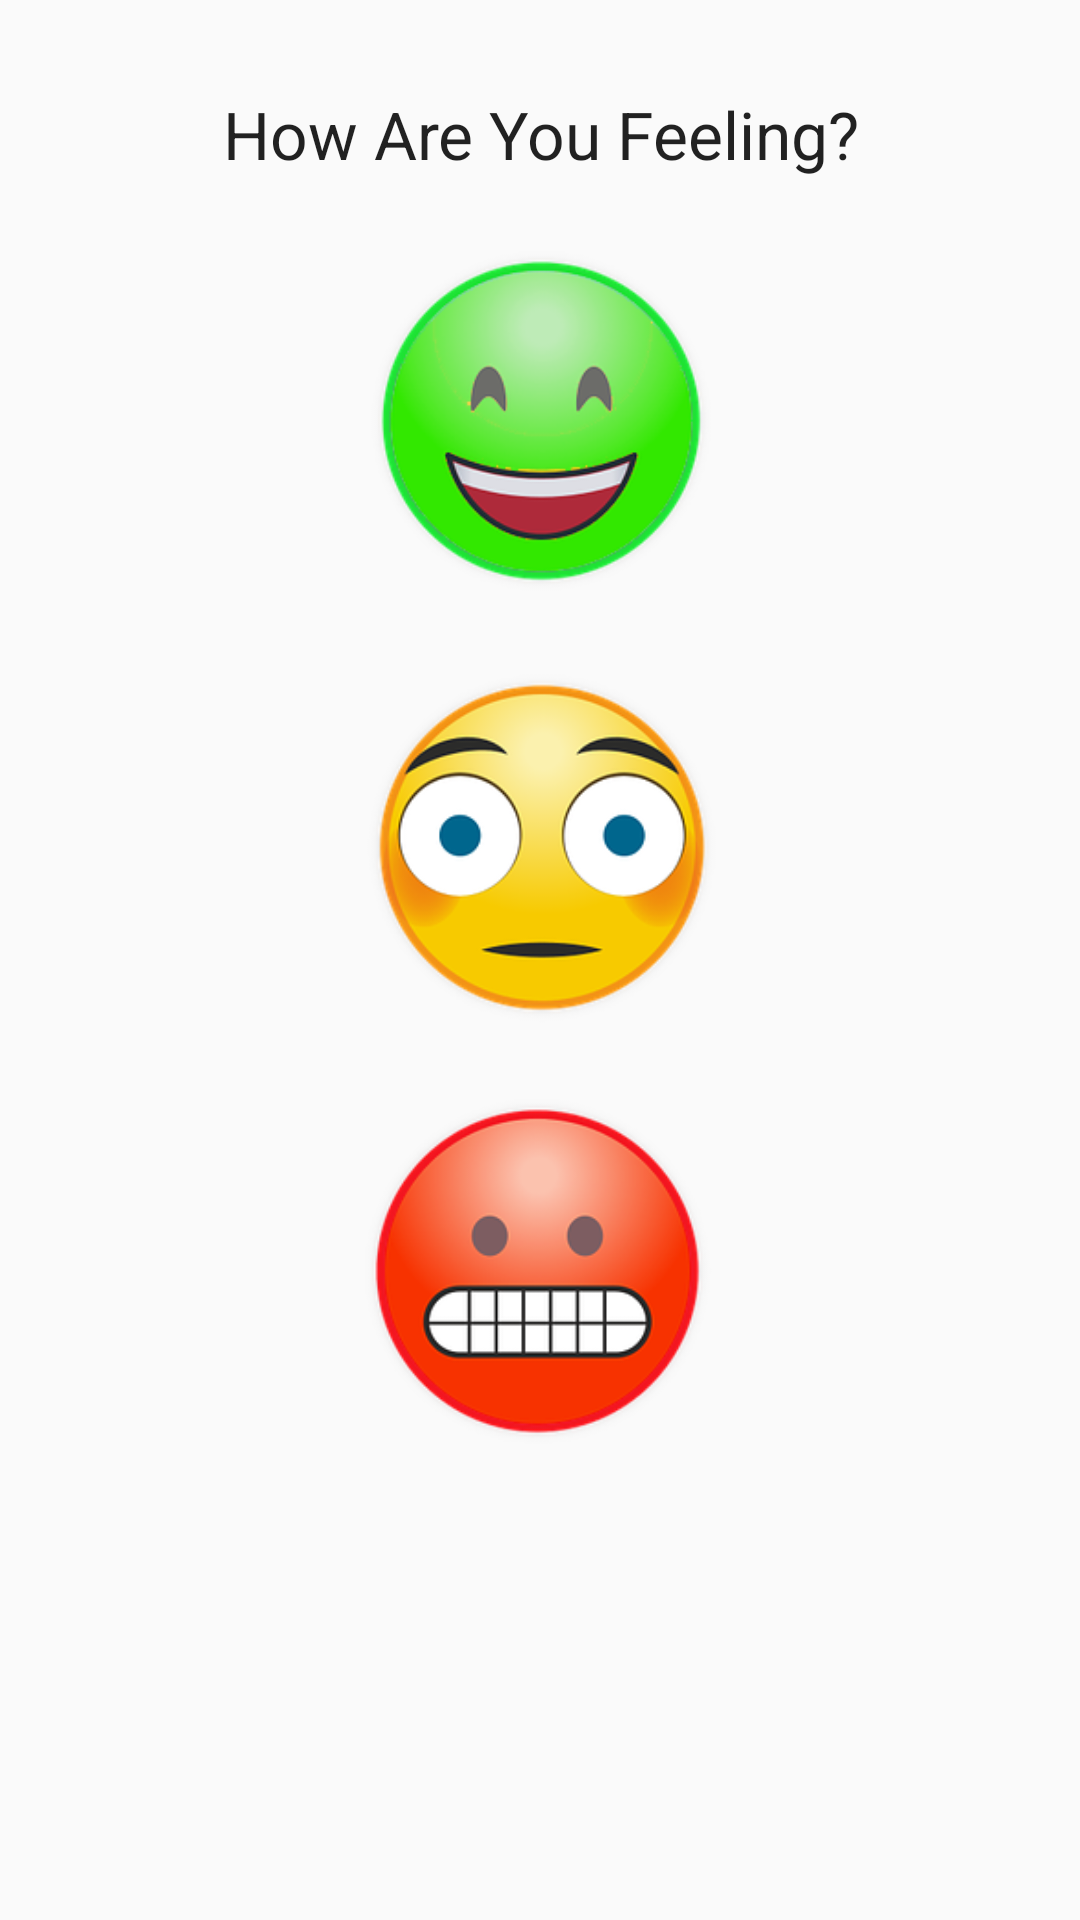

Point at icon controls on the screen. Image size 1080 x 1920, points as point (x, y).
emojigreen: point (541, 421)
emojired: point (537, 1271)
emojiyellow: point (542, 847)
